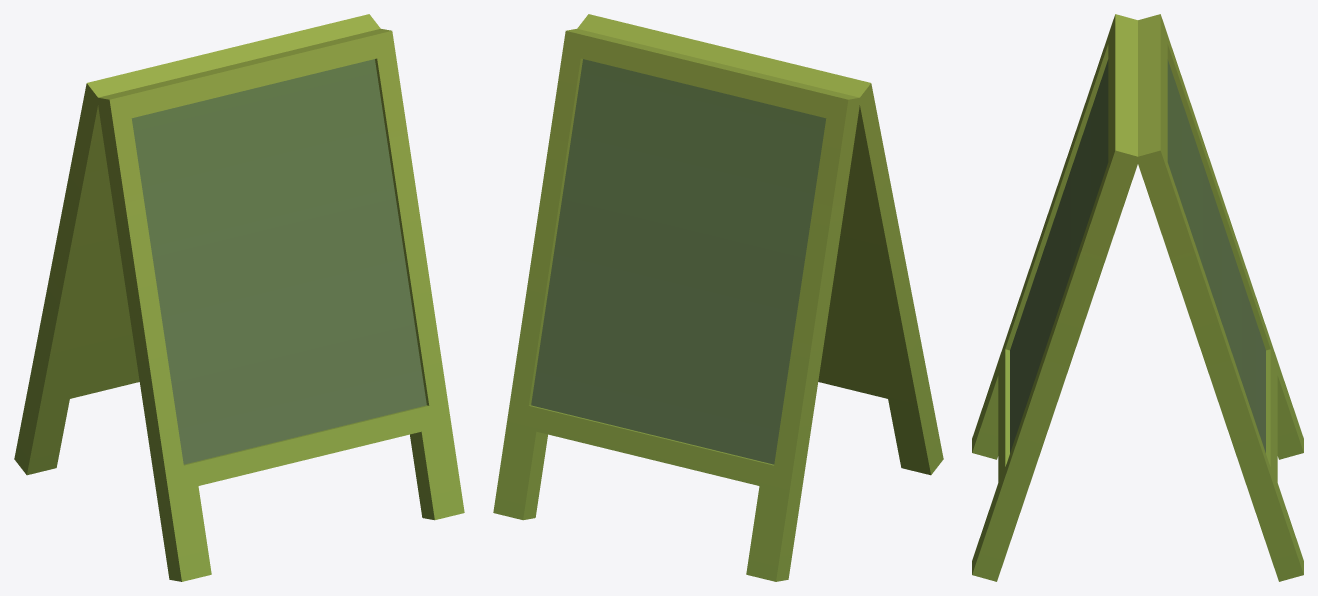
The model's file is Menu_01.fbx.
The picture shows the model from 3 angles, left to right: view 1: azimuth 30°, elevation 25°; view 2: azimuth 150°, elevation 25°; view 3: azimuth 270°, elevation 25°; orthographic projection.
Parts seen in each view (by area): view 1: Menu_01; view 2: Menu_01; view 3: Menu_01.
Part boxes in pixels (x1,y1,x2,y2): Menu_01: (14,14,464,581); Menu_01: (493,14,943,581); Menu_01: (972,14,1303,581).
Bounding box in the file's own units: 0.5486 × 0.8088 × 0.5636.
